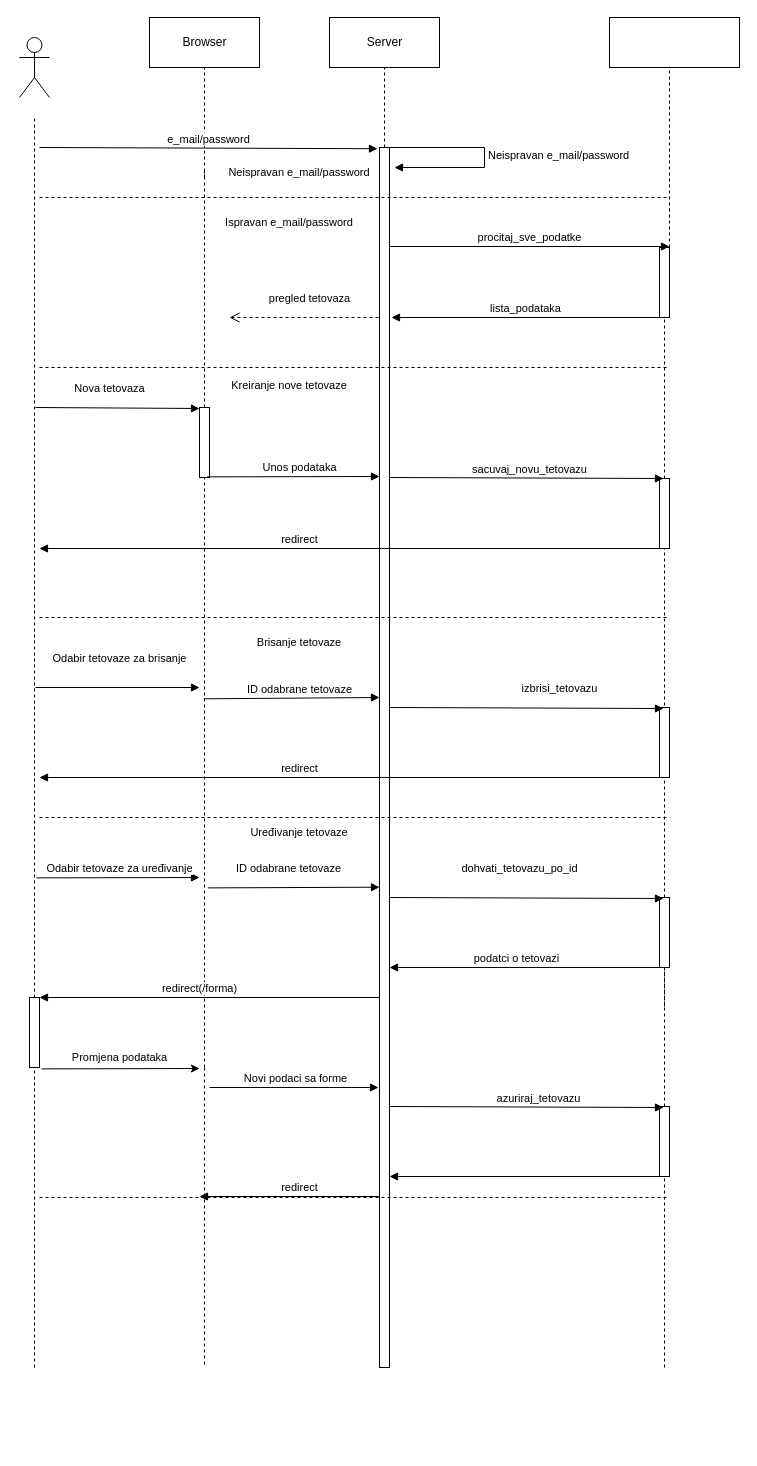
Some shapes in this 757 by 1466 pixel diagram are drawn without their labels. Each missing label, with the centre of its shape:
"Admin" goes at pixel 34 67.
"Baza" goes at pixel 674 42.
